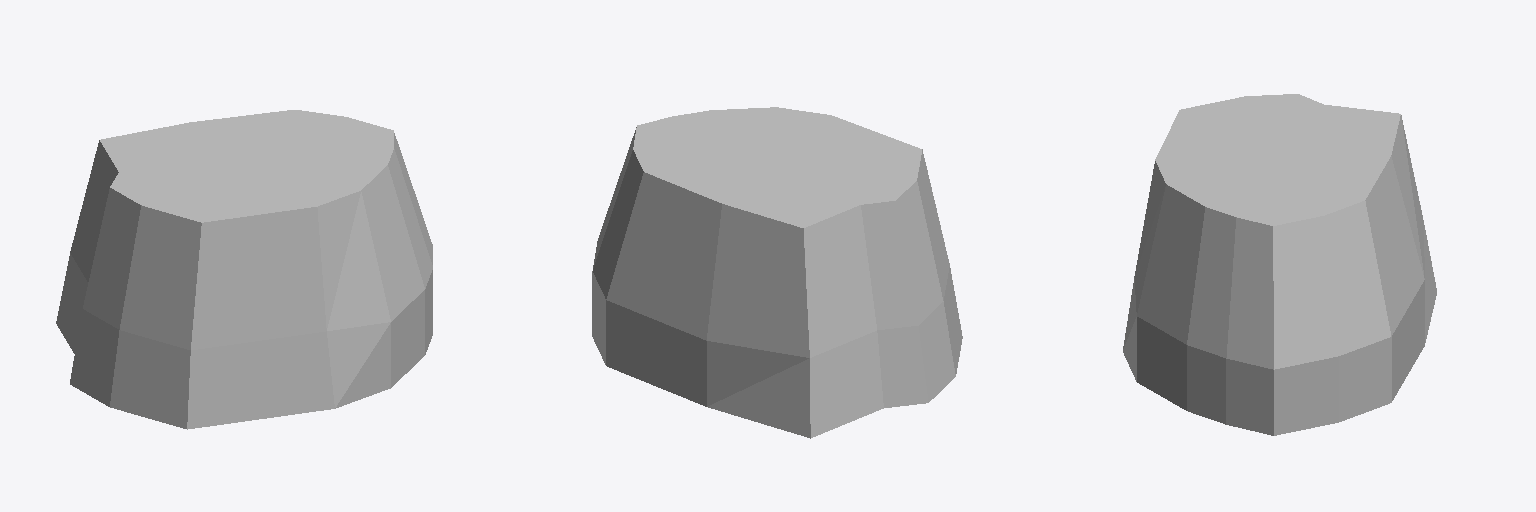
Rendered from Stone 1.obj.
3 views of the same model, side by side, from view 1: azimuth 30°, elevation 25°; view 2: azimuth 150°, elevation 25°; view 3: azimuth 270°, elevation 25° (orthographic).
Visible parts, largest first — view 1: Rock1; view 2: Rock1; view 3: Rock1.
Boxes of the visible parts, box(x1,y1,x2,y2) form: Rock1: box(56, 110, 432, 429); Rock1: box(592, 107, 962, 438); Rock1: box(1123, 94, 1436, 435).
Bounding box in the file's own units: 18.31 × 9.61 × 14.38.